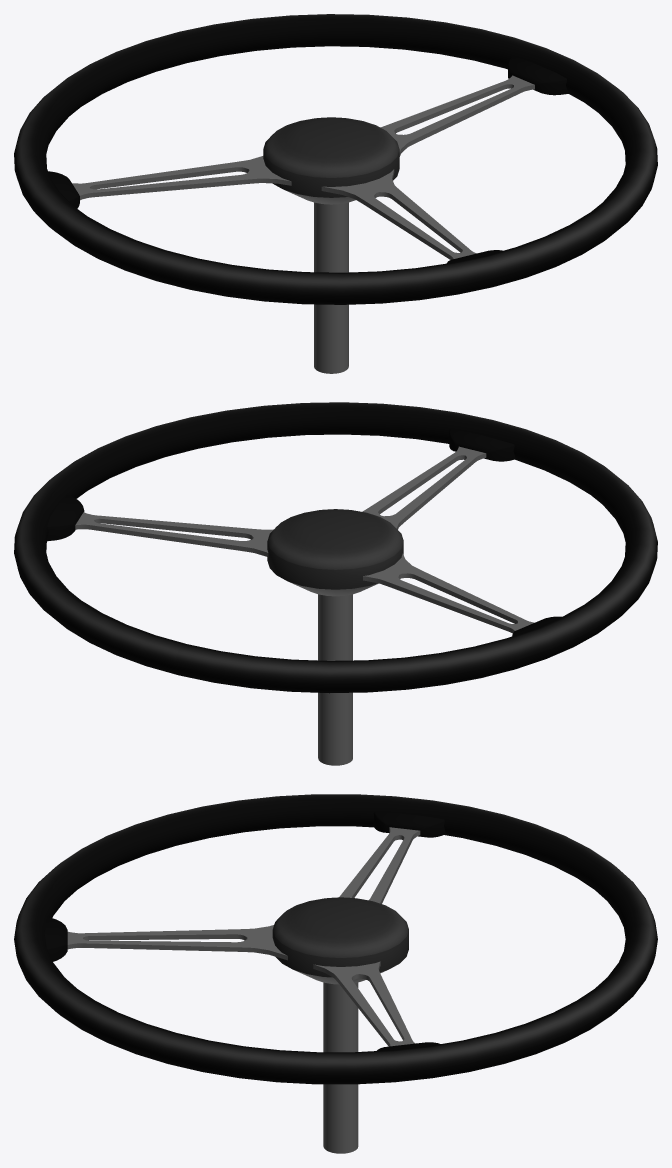
File: SM_Dash_Wheel.FBX
3 renders of one model, top to bottom at view 1: azimuth 30°, elevation 25°; view 2: azimuth 150°, elevation 25°; view 3: azimuth 270°, elevation 25°, orthographic.
Parts seen in each view (by area): view 1: Wheel, Wheel_Centre, Bar_L, Bar_D, Bar_R, Link_R, Link_L; view 2: Wheel, Wheel_Centre, Bar_R, Bar_L, Bar_D, Link_D, Link_R; view 3: Wheel, Wheel_Centre, Bar_D, Bar_R, Bar_L, Link_L, Link_D.
Boxes of the visible parts, <box> form: Wheel: <box>14,14,657,304</box>; Wheel_Centre: <box>263,117,399,373</box>; Bar_L: <box>72,156,291,200</box>; Bar_D: <box>321,169,476,259</box>; Bar_R: <box>380,75,534,156</box>; Link_R: <box>508,56,569,95</box>; Link_L: <box>48,171,79,208</box>; Wheel: <box>14,402,657,693</box>; Wheel_Centre: <box>267,509,403,765</box>; Bar_R: <box>75,512,273,556</box>; Bar_L: <box>363,553,534,633</box>; Bar_D: <box>362,446,486,529</box>; Link_D: <box>449,428,516,461</box>; Link_R: <box>47,495,84,541</box>; Wheel: <box>14,794,657,1084</box>; Wheel_Centre: <box>272,897,408,1153</box>; Bar_D: <box>67,925,287,960</box>; Bar_R: <box>313,961,415,1046</box>; Bar_L: <box>339,827,420,903</box>; Link_L: <box>373,811,446,837</box>; Link_D: <box>44,917,67,961</box>.
Size of the model in its own units: 270 by 108 by 271.
